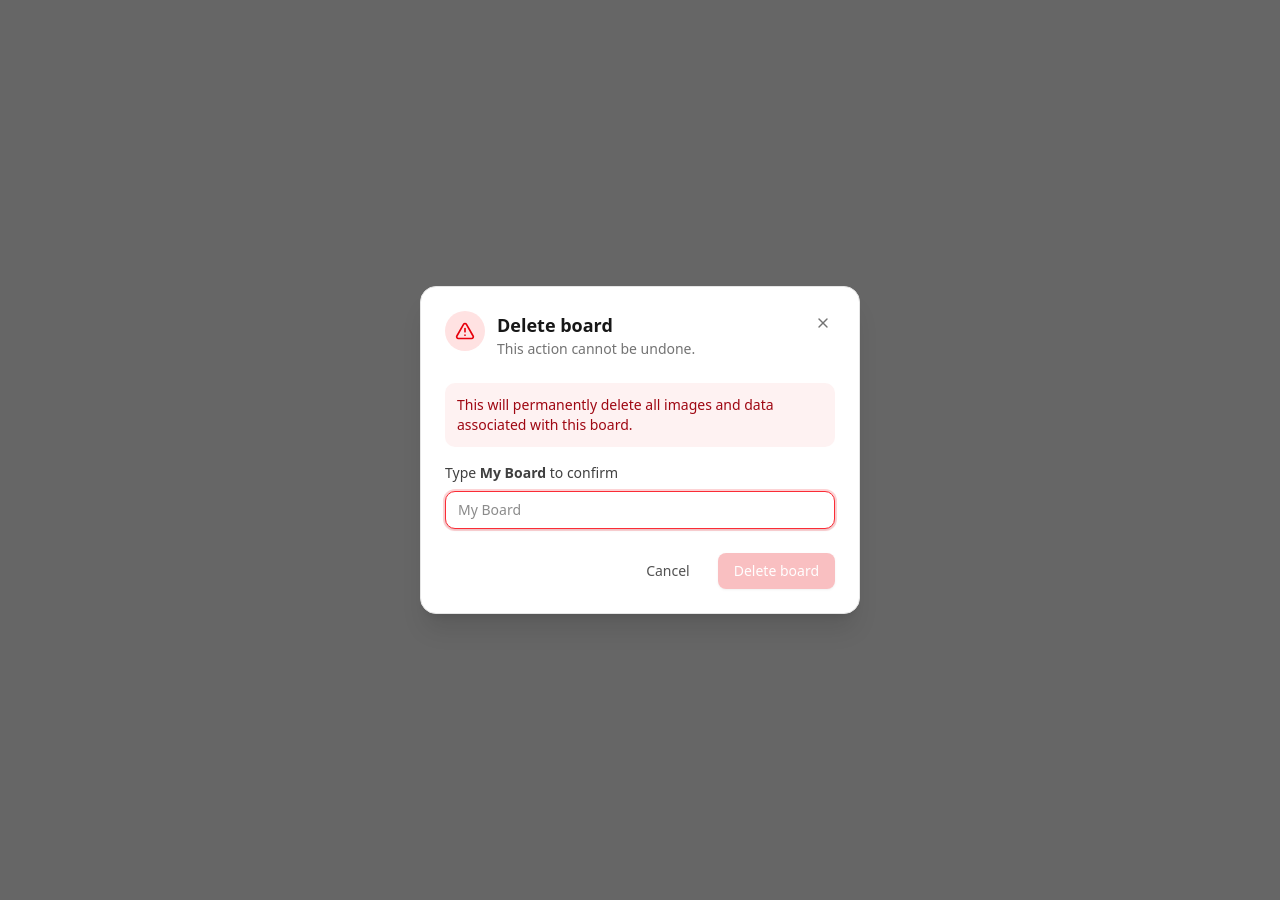
Scenario: DeleteBoardDialog › disables delete button until name matches
Expected: the button "Delete board" is disabled, [718,553,835,589]
Type "Wrong Name" into the field with placeholder "My Board" at {"x": 640, "y": 510}, box [445,491,835,529]
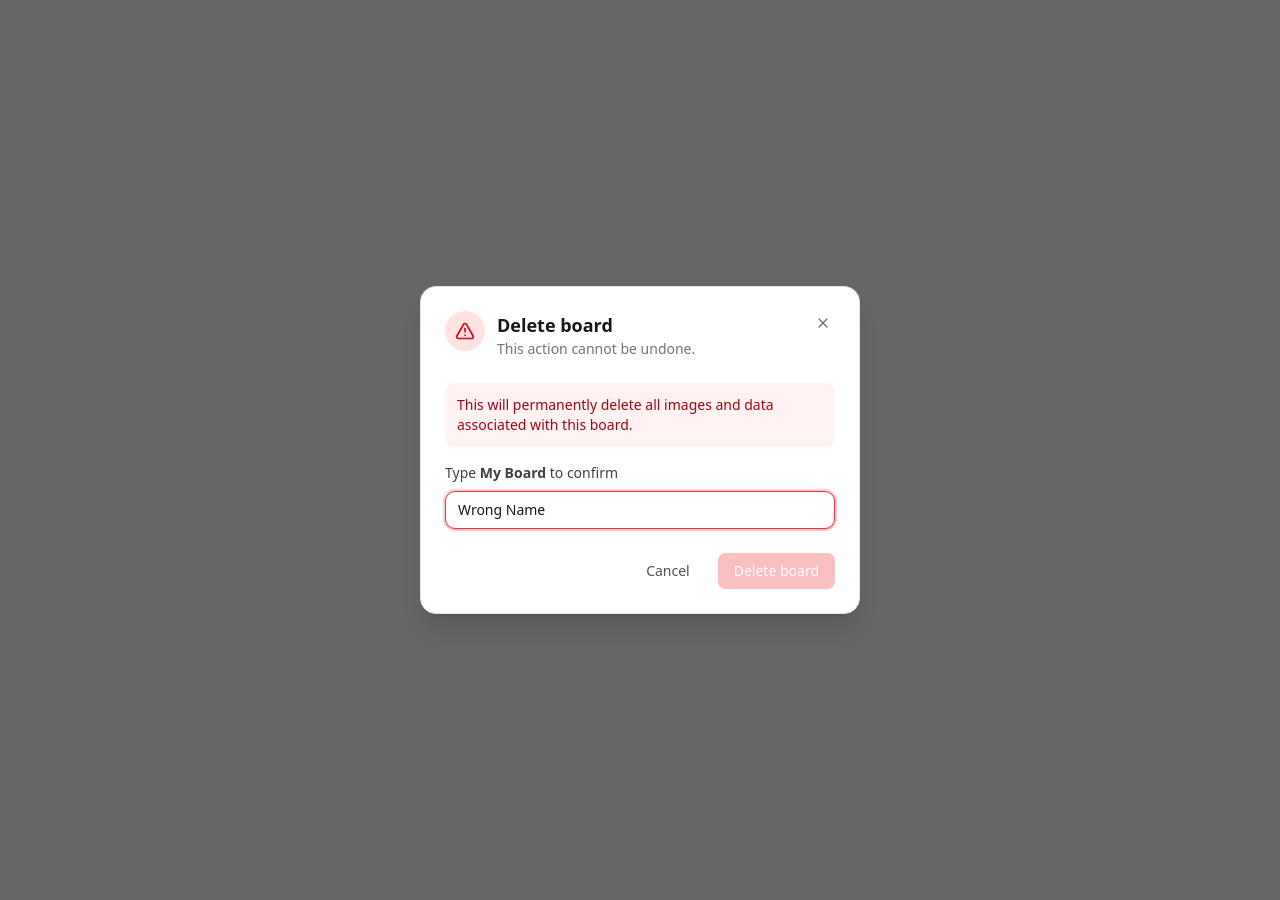
Expected: the button "Delete board" is disabled, [718,553,835,589]
Replace the text in the field with placeholder "My Board" with "My Board" at {"x": 640, "y": 510}, box [445,491,835,529]
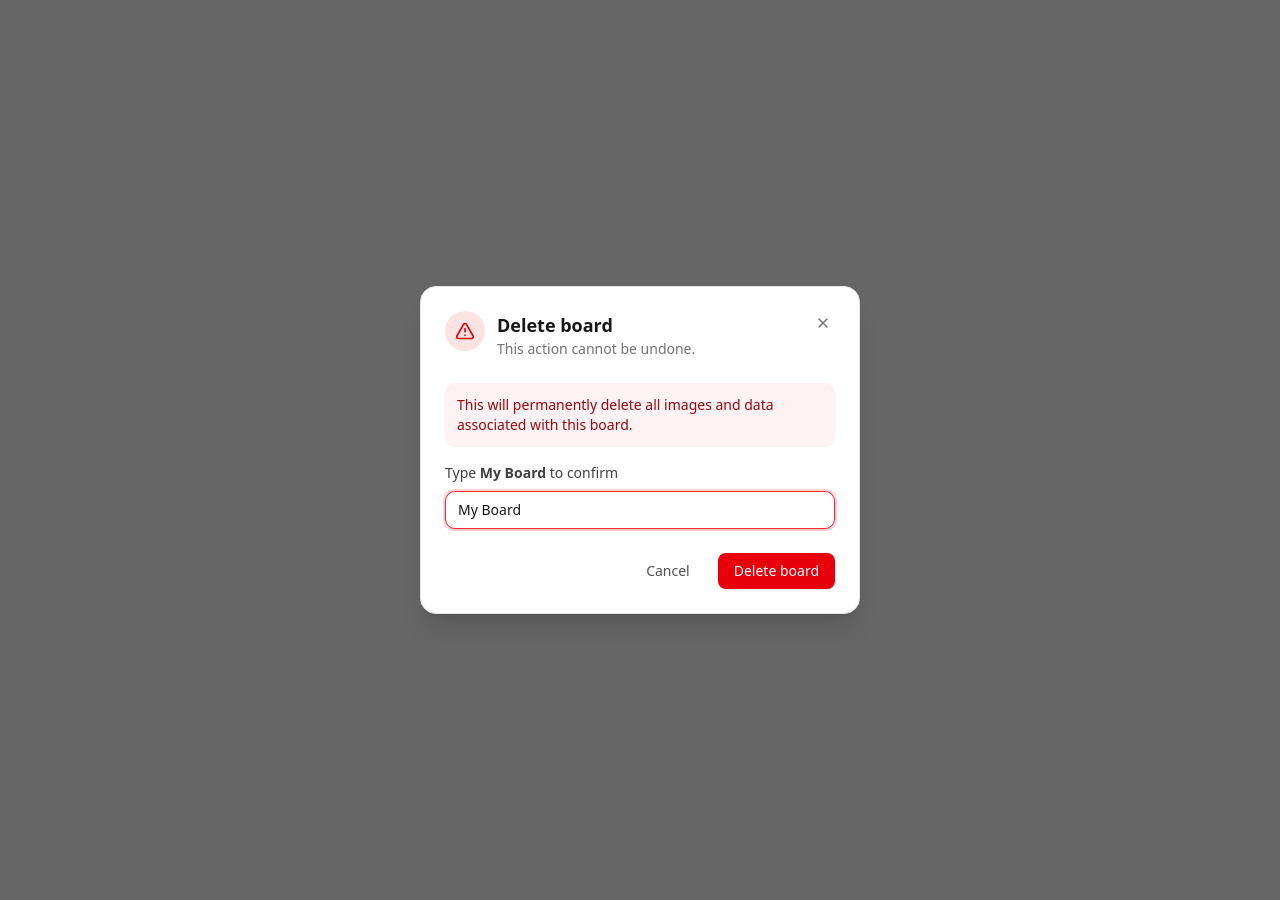
Result: the button "Delete board" is enabled at [718,553,835,589]
